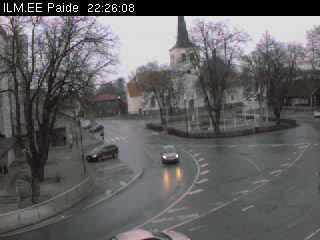car: (91, 228, 196, 240), (86, 141, 120, 163), (161, 143, 180, 167), (300, 109, 320, 123), (81, 120, 99, 130), (88, 124, 105, 133)
person: (100, 130, 106, 143)
